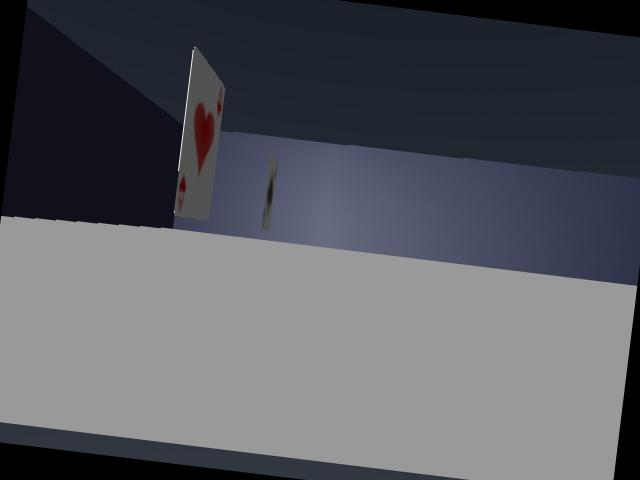club: (262, 154, 277, 229)
heart: (174, 48, 224, 219)
